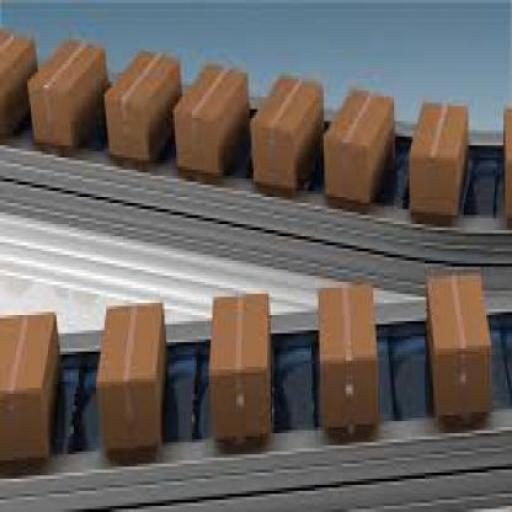cardboard: (96, 300, 166, 454), (424, 266, 490, 422), (206, 291, 274, 436), (101, 46, 182, 164), (24, 30, 104, 146), (169, 60, 247, 178), (316, 281, 377, 430), (248, 72, 322, 194), (320, 85, 396, 203), (0, 312, 59, 462), (404, 98, 468, 216), (0, 24, 38, 134), (502, 103, 510, 215)
